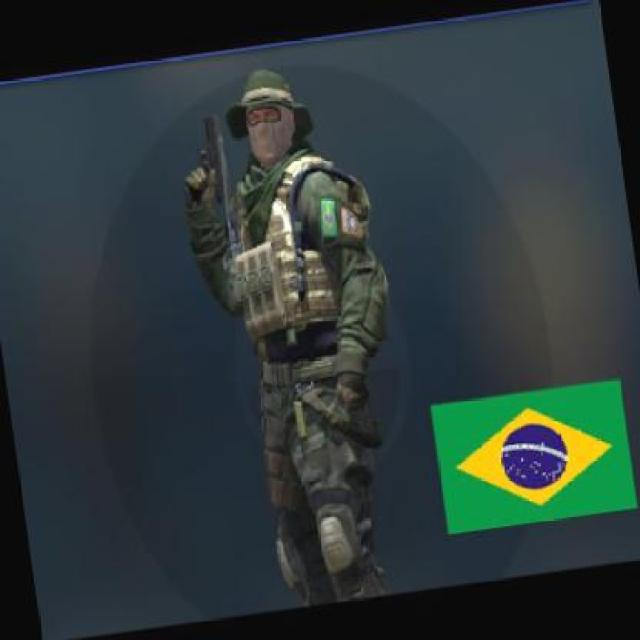MIL_Pax: (166, 52, 432, 612)
